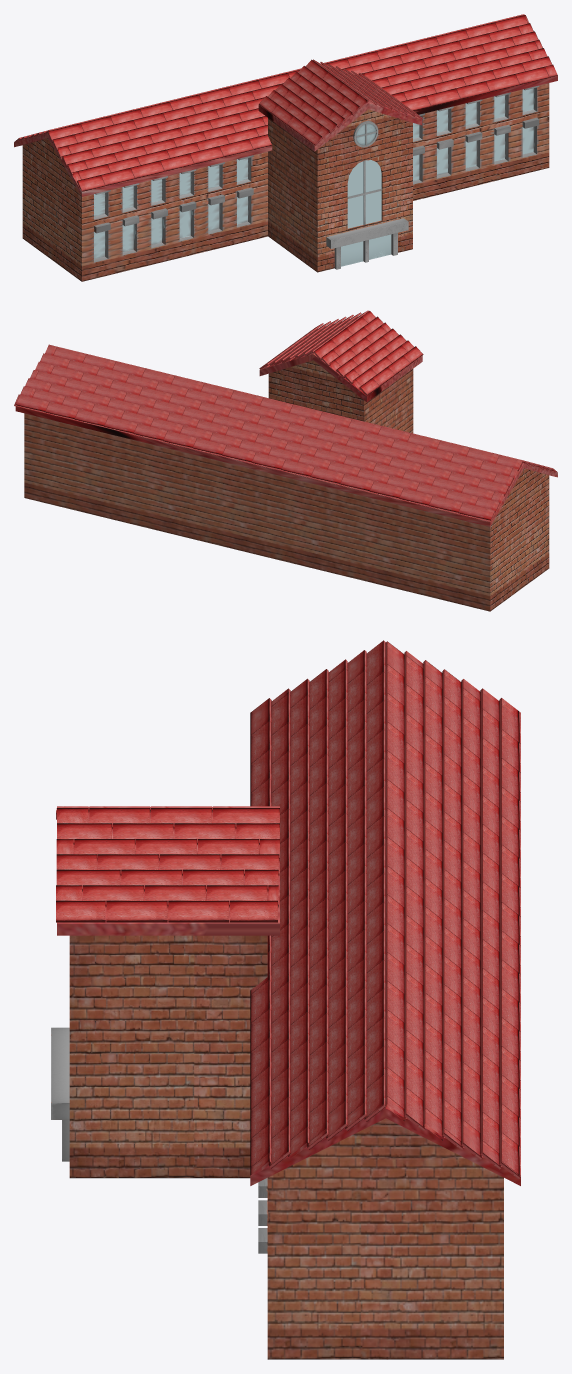
The model's file is school.fbx.
The picture shows the model from 3 angles, top to bottom: view 1: azimuth 30°, elevation 25°; view 2: azimuth 150°, elevation 25°; view 3: azimuth 270°, elevation 25°; orthographic projection. The views are drawn at different scales.
Visible parts, largest first — view 1: Cube.004; view 2: Cube.004; view 3: Cube.004.
Part boxes in pixels (bbox=[...]): Cube.004: bbox=[14, 14, 557, 281]; Cube.004: bbox=[14, 310, 557, 611]; Cube.004: bbox=[51, 640, 520, 1359].
Size of the model in its own units: 3264 by 1064 by 1394.
